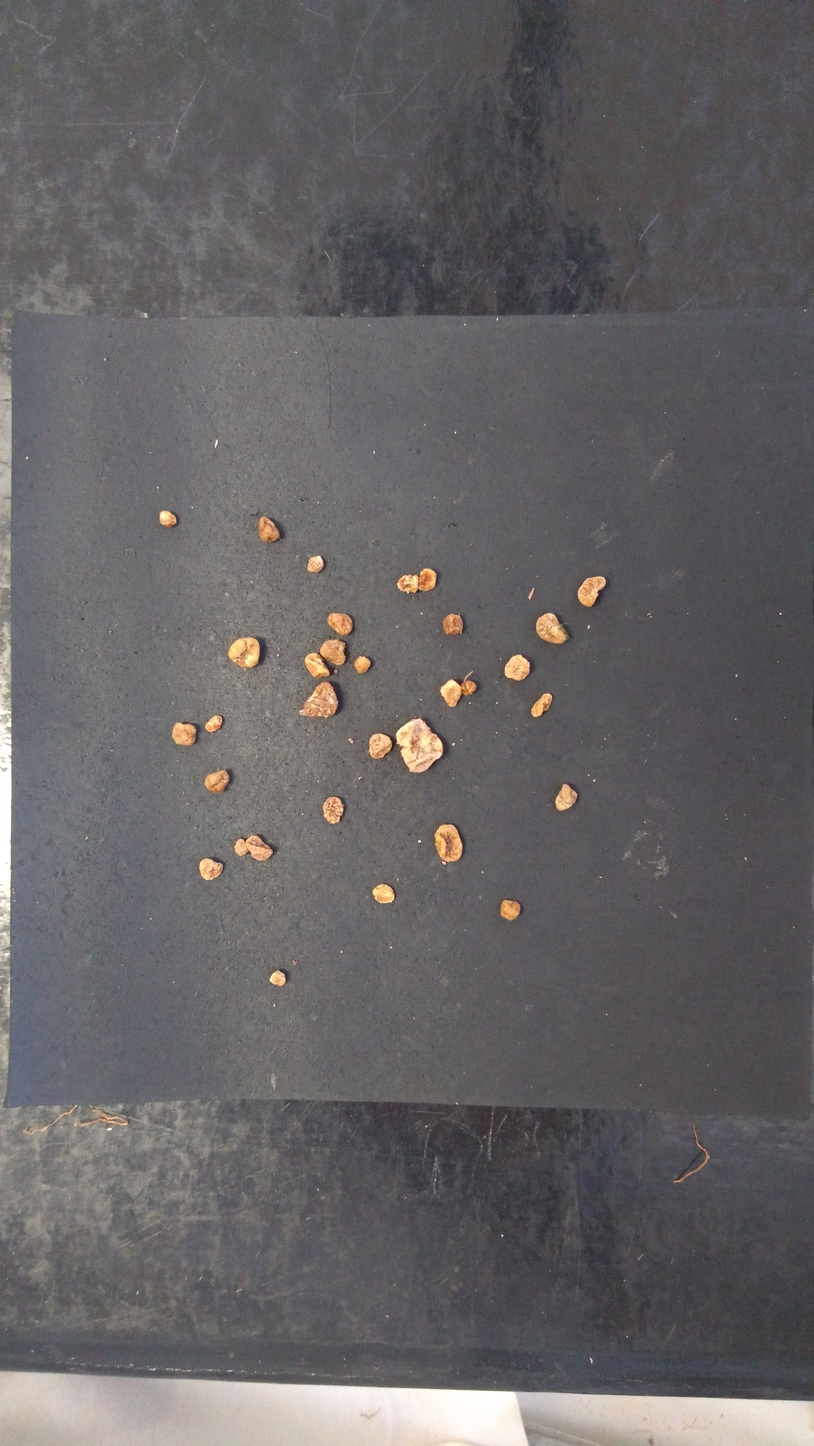nodule: (394, 718, 444, 773), (299, 681, 340, 718), (434, 823, 464, 864), (535, 612, 570, 644), (228, 636, 261, 669), (576, 575, 606, 608), (503, 653, 531, 682), (319, 639, 348, 667), (245, 835, 275, 862), (304, 652, 331, 680), (367, 732, 393, 761), (439, 678, 463, 709), (171, 721, 198, 747), (326, 611, 354, 636), (257, 515, 281, 544), (321, 796, 345, 825), (553, 783, 577, 812), (199, 857, 225, 882), (203, 770, 230, 794), (530, 692, 553, 719), (441, 612, 464, 637), (499, 898, 522, 922), (417, 567, 438, 593), (395, 574, 419, 595), (372, 883, 395, 904), (158, 509, 178, 530), (203, 714, 223, 734), (233, 837, 251, 858), (306, 554, 325, 573), (354, 654, 371, 675), (459, 679, 477, 698), (267, 969, 287, 986), (347, 737, 354, 744), (333, 668, 339, 675), (441, 860, 447, 865), (451, 742, 456, 746), (587, 624, 591, 629), (417, 839, 421, 843)
